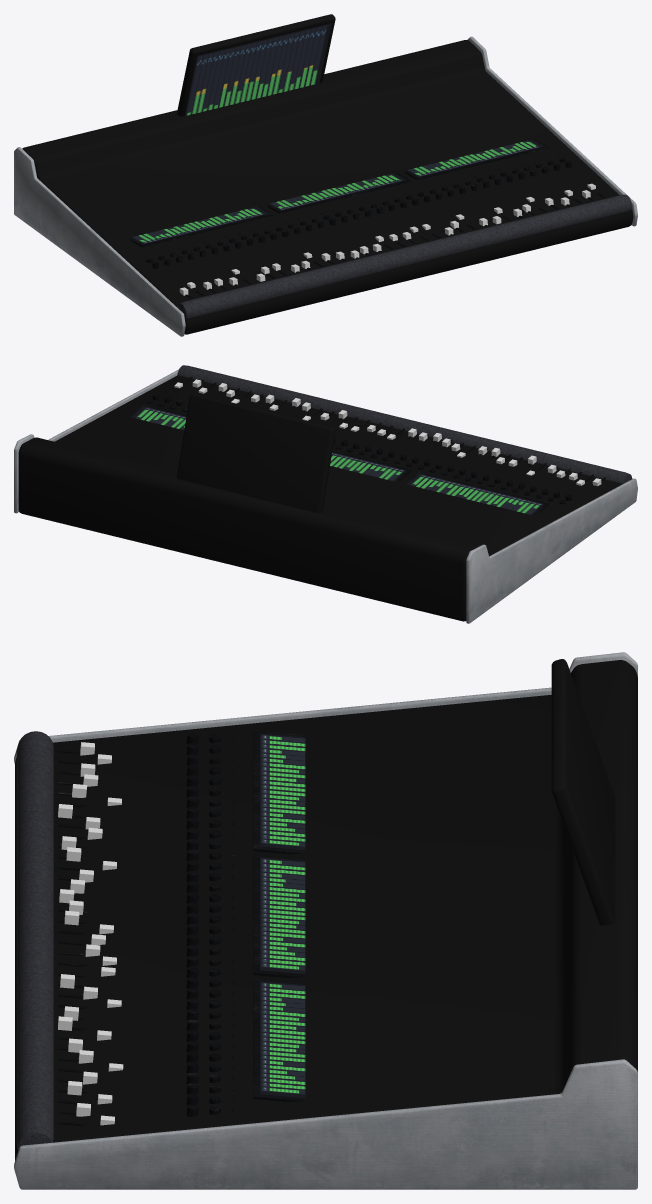
The model's file is audio_console_digidoc_sd8.gltf.
3 renders of one model, top to bottom at view 1: azimuth 30°, elevation 25°; view 2: azimuth 150°, elevation 25°; view 3: azimuth 270°, elevation 25°, orthographic. The views are drawn at different scales.
Parts seen in each view (by area): view 1: audio_console_digidoc_sd8; view 2: audio_console_digidoc_sd8; view 3: audio_console_digidoc_sd8.
Part boxes in pixels (x1,y1,x2,y2): audio_console_digidoc_sd8: (14, 14, 637, 336); audio_console_digidoc_sd8: (14, 365, 637, 623); audio_console_digidoc_sd8: (14, 652, 637, 1189).
Size of the model in its own units: 1.52 by 0.4564 by 0.9794.
7 materials, 5 textured.
